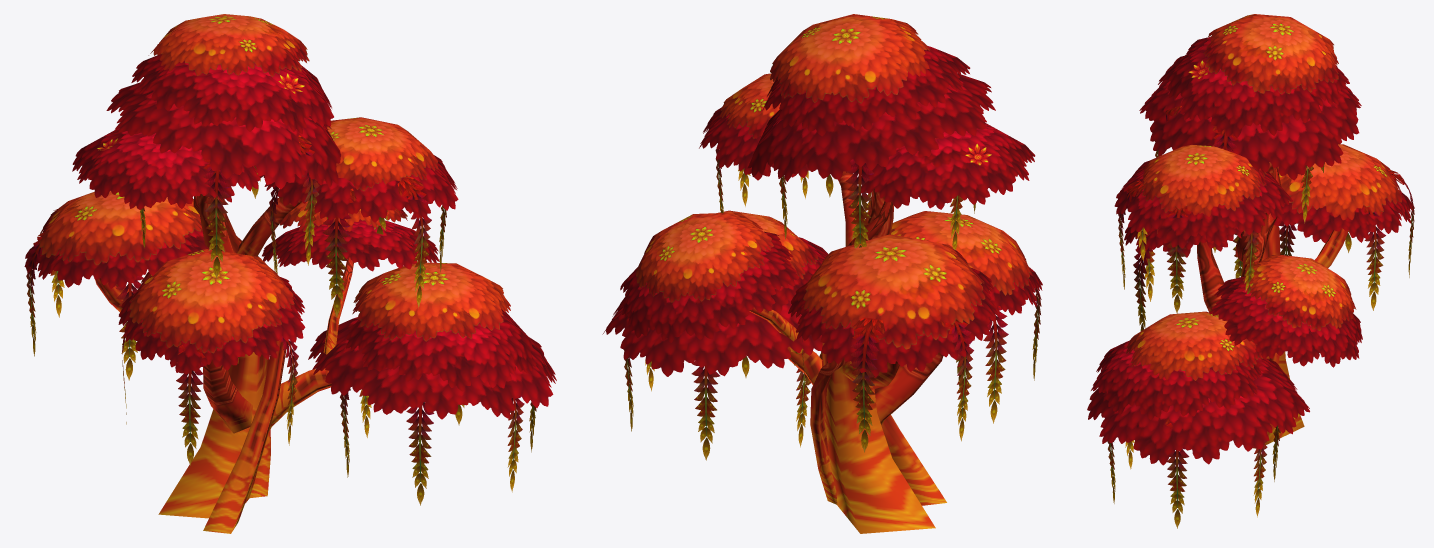
File: Red_Tree_08e.FBX
3 views of the same model, side by side, from view 1: azimuth 30°, elevation 25°; view 2: azimuth 150°, elevation 25°; view 3: azimuth 270°, elevation 25° (orthographic). The views are drawn at different scales.
Visible parts, largest first — view 1: Red_Tree_08e; view 2: Red_Tree_08e; view 3: Red_Tree_08e.
Boxes of the visible parts, <box> form: Red_Tree_08e: <box>24,14,556,533</box>; Red_Tree_08e: <box>602,14,1042,533</box>; Red_Tree_08e: <box>1087,14,1414,528</box>.
Bounding box in the file's own units: 475 × 478 × 362.
